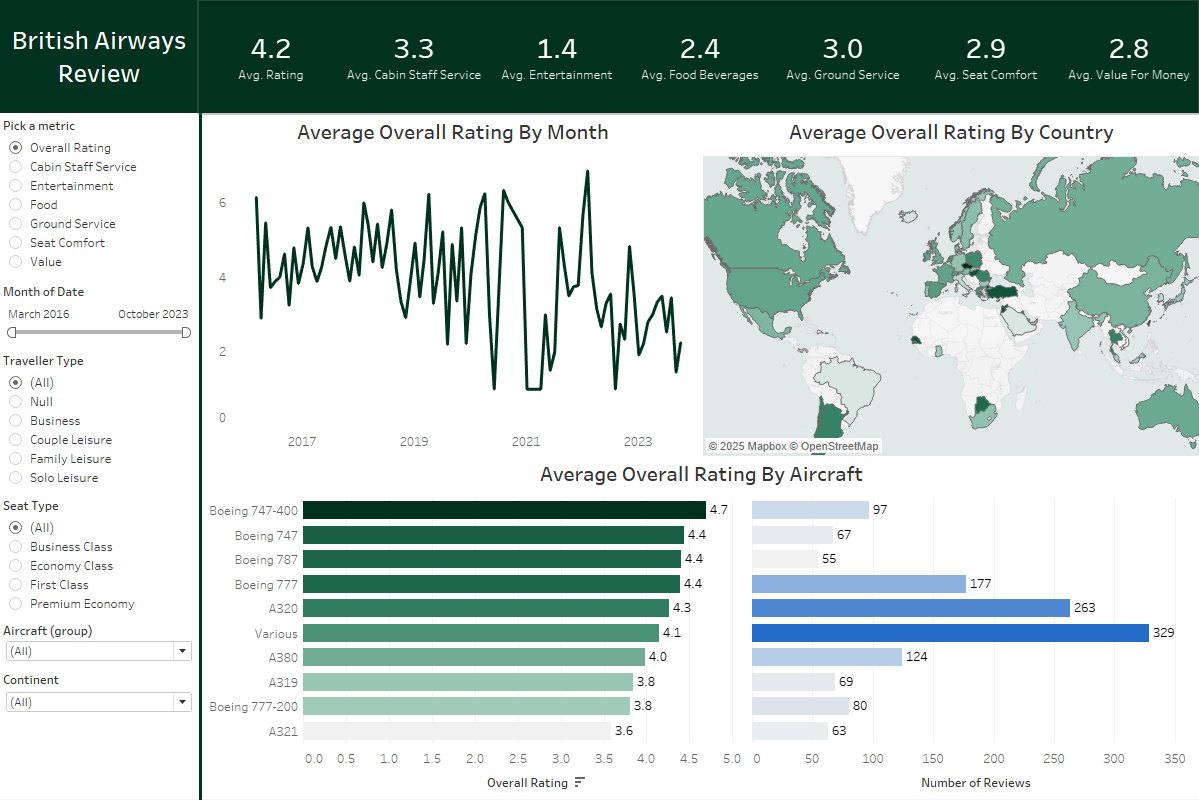

The page's visual inventory and layout, read from the dashboard file:
{"tool":"tableau","page":{"name":"Dashboard 1","canvas":[1200,700],"ordinal":0},"visuals":[{"type":"text","box":[0,0,200,100]},{"type":"worksheet","title":"Summary","mark":"Automatic","box":[200,0,1001,100]},{"type":"parameter","param":"[Parameters].[Parameter 1]","box":[0,100,200,166]},{"type":"worksheet","title":"Month","mark":"Automatic","rows":["Calculation_745627221744136192"],"cols":["date"],"box":[204,100,500,300]},{"type":"worksheet","title":"Map","mark":"Automatic","box":[704,100,497,300]},{"type":"filter","title":"Map","param":"[federated.01n4hwz1t8digk13c26pw14motht].[tmn:date:qk]","box":[0,266,200,69]},{"type":"filter","title":"Map","param":"[federated.01n4hwz1t8digk13c26pw14motht].[none:traveller_type:nk]","box":[0,335,200,145]},{"type":"worksheet","title":"Aircraft","mark":"Automatic","cols":["Calculation_745627221744136192","ba_reviews.csv_12D005D81D0B4700A2679F66F3E3A610"],"box":[204,399,997,300]},{"type":"filter","title":"Map","param":"[federated.01n4hwz1t8digk13c26pw14motht].[none:seat_type:nk]","box":[0,480,200,125]},{"type":"filter","title":"Map","param":"[federated.01n4hwz1t8digk13c26pw14motht].[Aircraft (group)]","box":[0,605,200,49]}]}

Visuals, with their boxes on the page's 1200x700 design canvas (x1, y1, x2, y2). These are canvas units, not pixel positions in the 1199x800 screenshot, which may show the page scaled, cropped or inside an application window:
text: (0,0,200,100)
"Summary" worksheet: (200,0,1201,100)
parameter: (0,100,200,266)
"Month" worksheet: (204,100,704,400)
"Map" worksheet: (704,100,1201,400)
"Map" filter: (0,266,200,335)
"Map" filter: (0,335,200,480)
"Aircraft" worksheet: (204,399,1201,699)
"Map" filter: (0,480,200,605)
"Map" filter: (0,605,200,654)
